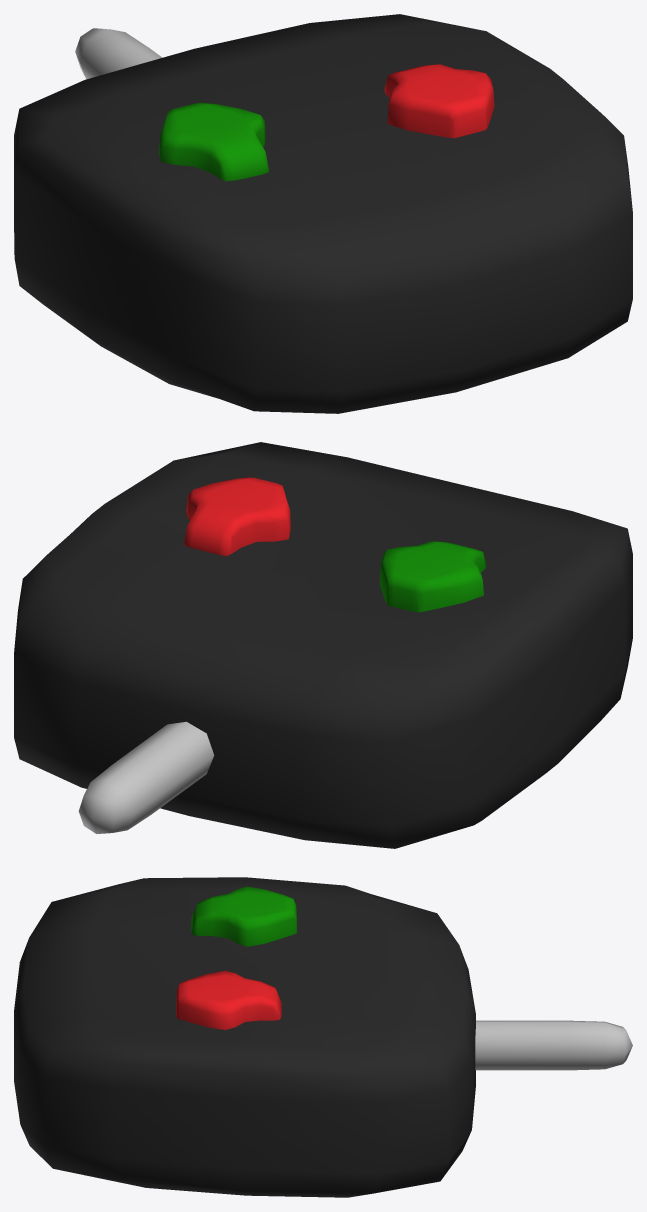
Rendered from remote_controller.glb.
3 renders of one model, top to bottom at view 1: azimuth 30°, elevation 25°; view 2: azimuth 150°, elevation 25°; view 3: azimuth 270°, elevation 25°, orthographic. The views are drawn at different scales.
Visible parts, largest first — view 1: RemoteBody, ForwardButton, BackButton, Antenna; view 2: RemoteBody, Antenna, BackButton, ForwardButton; view 3: RemoteBody, Antenna, ForwardButton, BackButton.
Boxes of the visible parts, left/top/right/bottom form: RemoteBody: left=14, top=14, right=632, bottom=413; ForwardButton: left=159, top=102, right=268, bottom=181; BackButton: left=384, top=64, right=494, bottom=138; Antenna: left=75, top=28, right=162, bottom=79; RemoteBody: left=14, top=442, right=632, bottom=848; Antenna: left=78, top=721, right=214, bottom=833; BackButton: left=184, top=477, right=290, bottom=556; ForwardButton: left=379, top=541, right=486, bottom=612; RemoteBody: left=14, top=877, right=475, bottom=1197; Antenna: left=475, top=1020, right=632, bottom=1070; ForwardButton: left=191, top=886, right=296, bottom=946; BackButton: left=176, top=970, right=281, bottom=1029.
Size of the model in its own units: 0.5293 by 0.219 by 0.7245.
